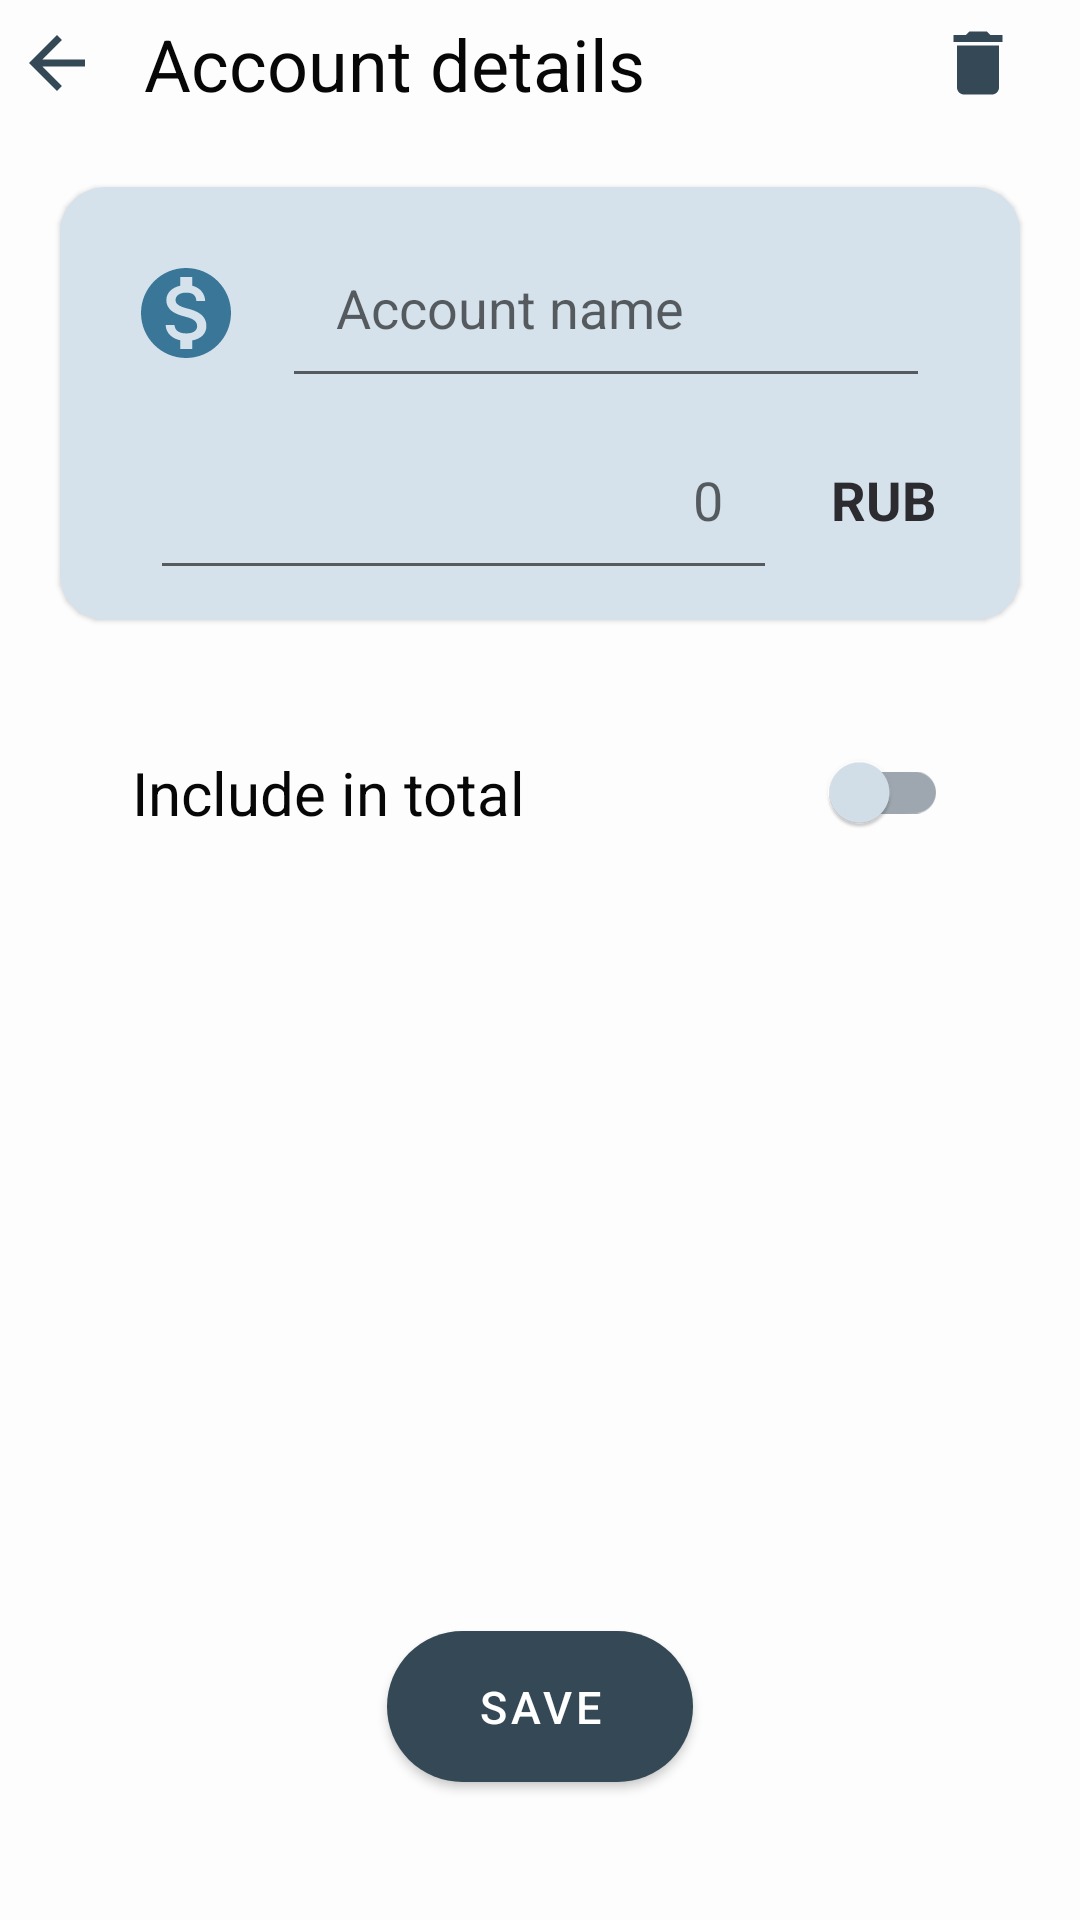

Icons on this 1080px×1920px Android screen, each with its box as (left=x1, top=y1, right=x2, bottom=y2):
delete: (left=953, top=31, right=1003, bottom=95)
money: (left=141, top=268, right=231, bottom=358)
